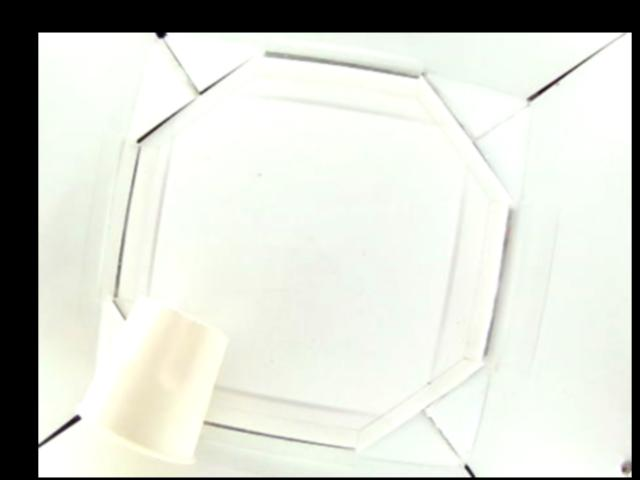Cup: (73, 295, 224, 461)
